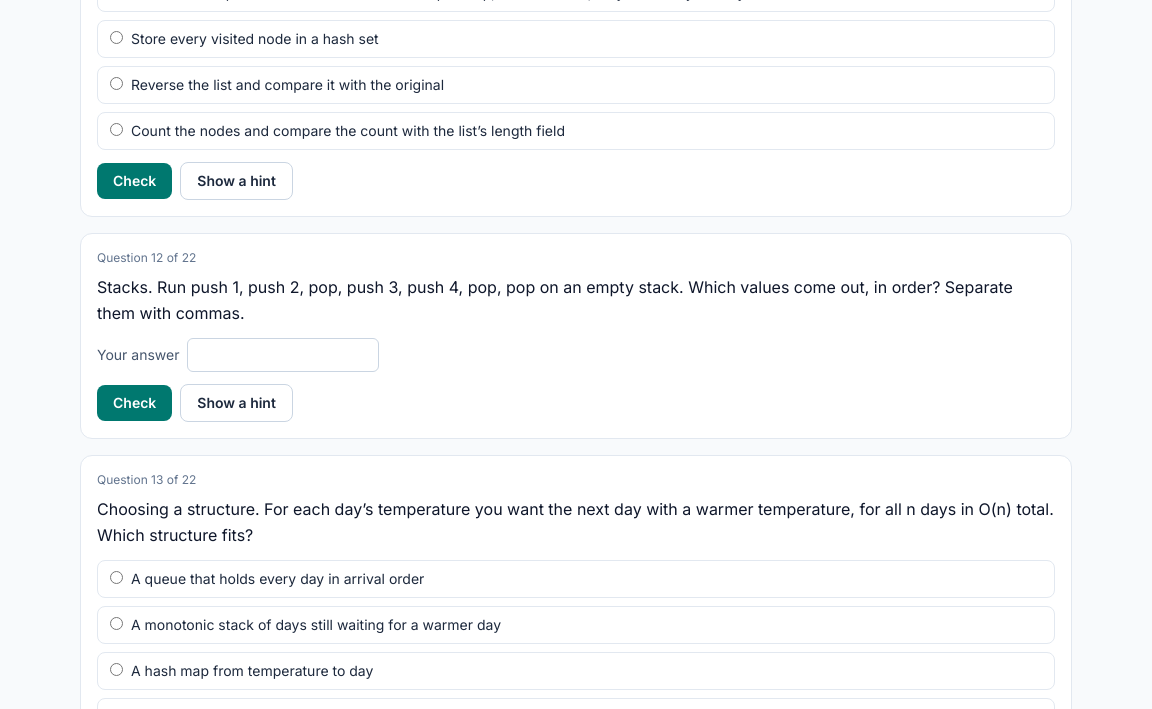
review: foundations › accepts the stack output written in several ways
(page scrolled)
Type "3, 4, 2" into the field named "answer" at (284, 355), box [188,338,380,372]
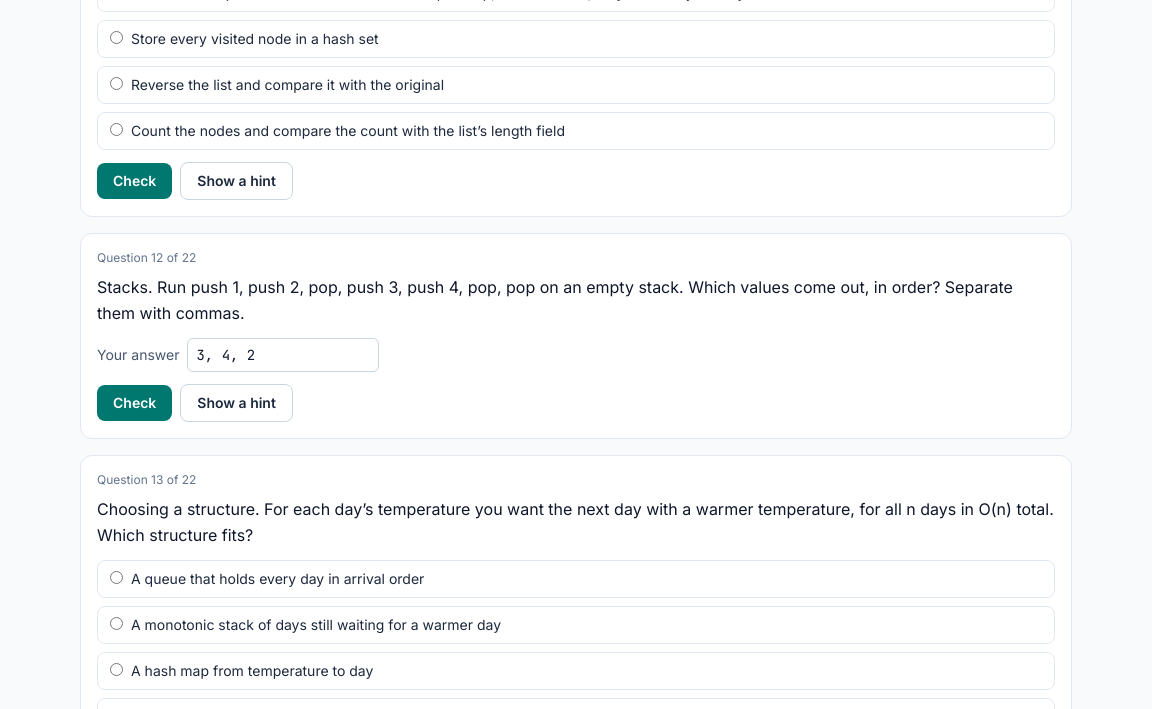
Submit the form "Your answer Check Show a hint", box [97,338,380,422]
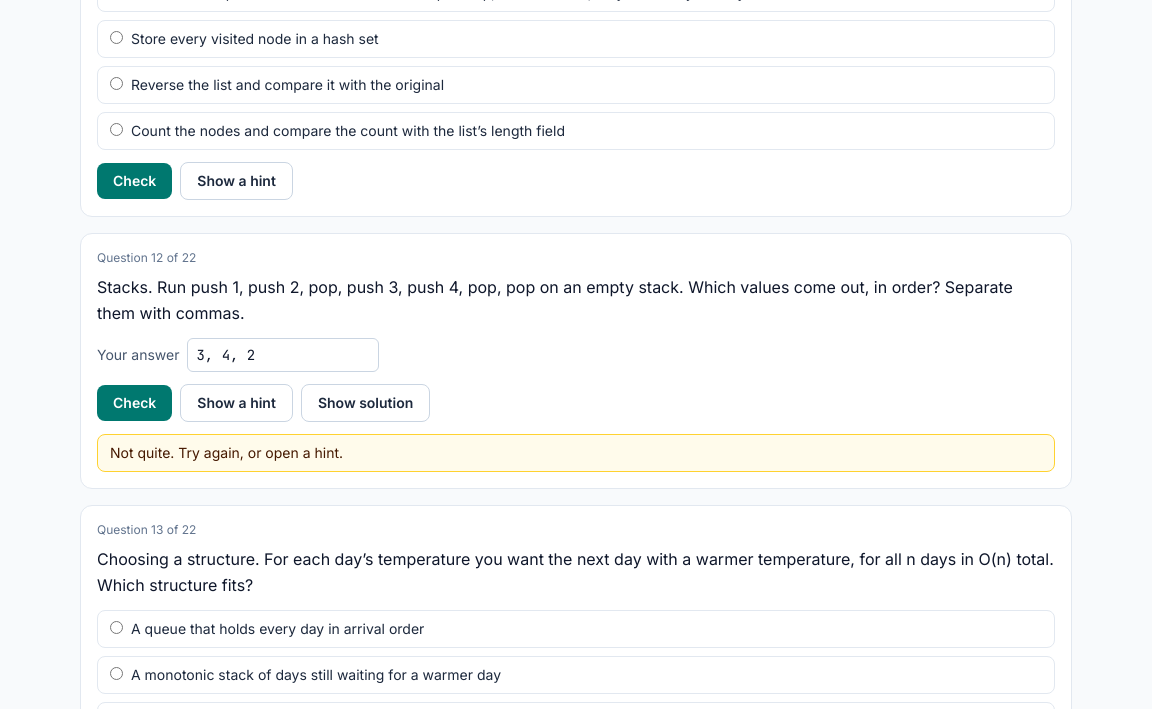
Check: the list item that starts with "Question 12 of 22" shows "Not quite", box [110,444,343,461]
Replace the text in the field named "answer" with "2,4,3" at (284, 355), box [188,338,380,372]
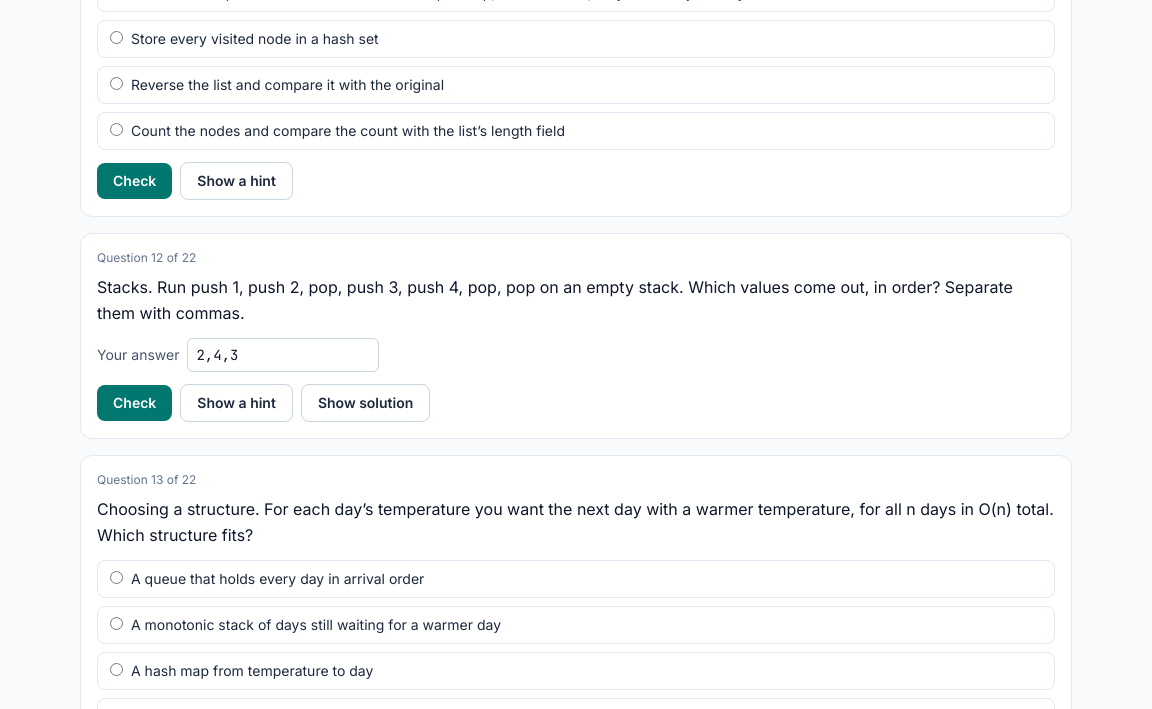
Submit the form "Your answer Check Show a hint Show solution", box [97,338,430,422]
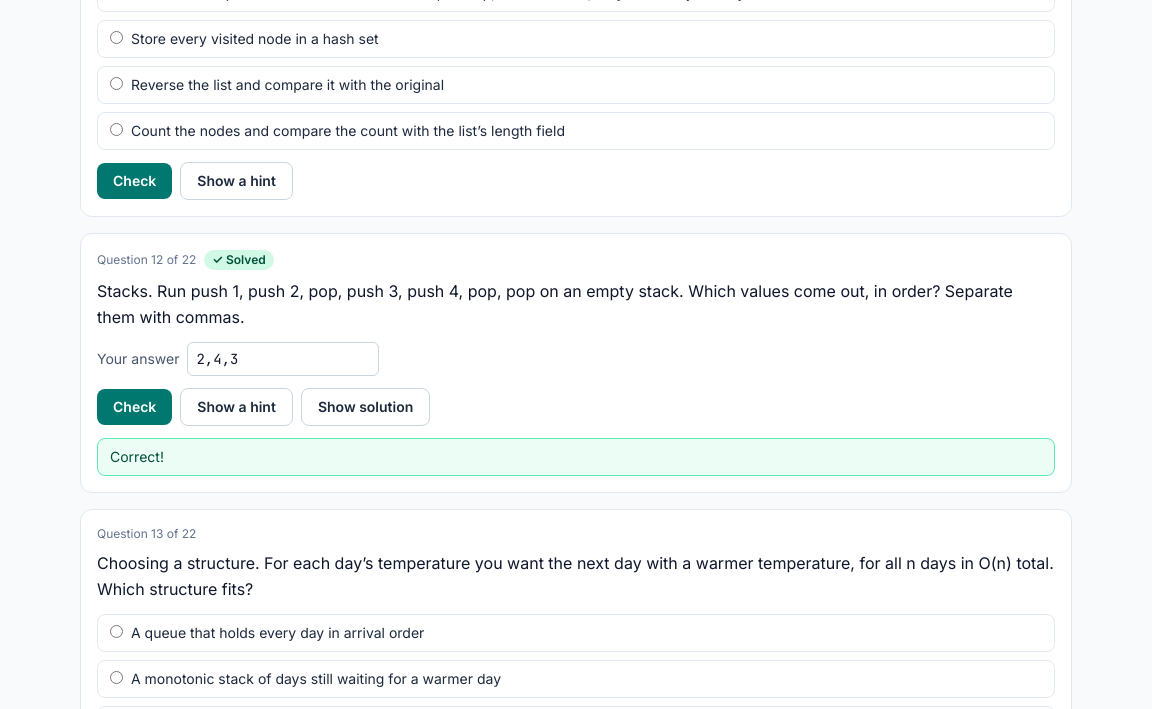
Check: the list item that starts with "Question 12 of 22" shows "Correct!", box [110,448,164,465]
